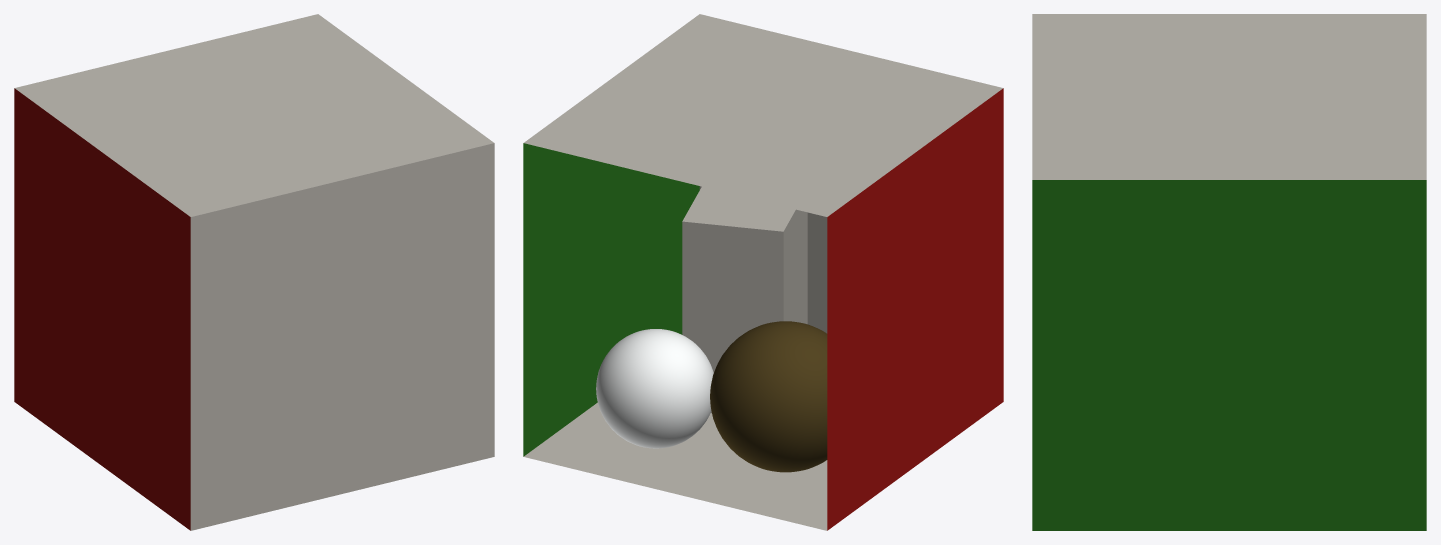
File: cornell.obj
3 renders of one model, left to right at view 1: azimuth 30°, elevation 25°; view 2: azimuth 150°, elevation 25°; view 3: azimuth 270°, elevation 25°, orthographic. The views are drawn at different scales.
Bounding box in the file's own units: 556 × 549 × 559.
